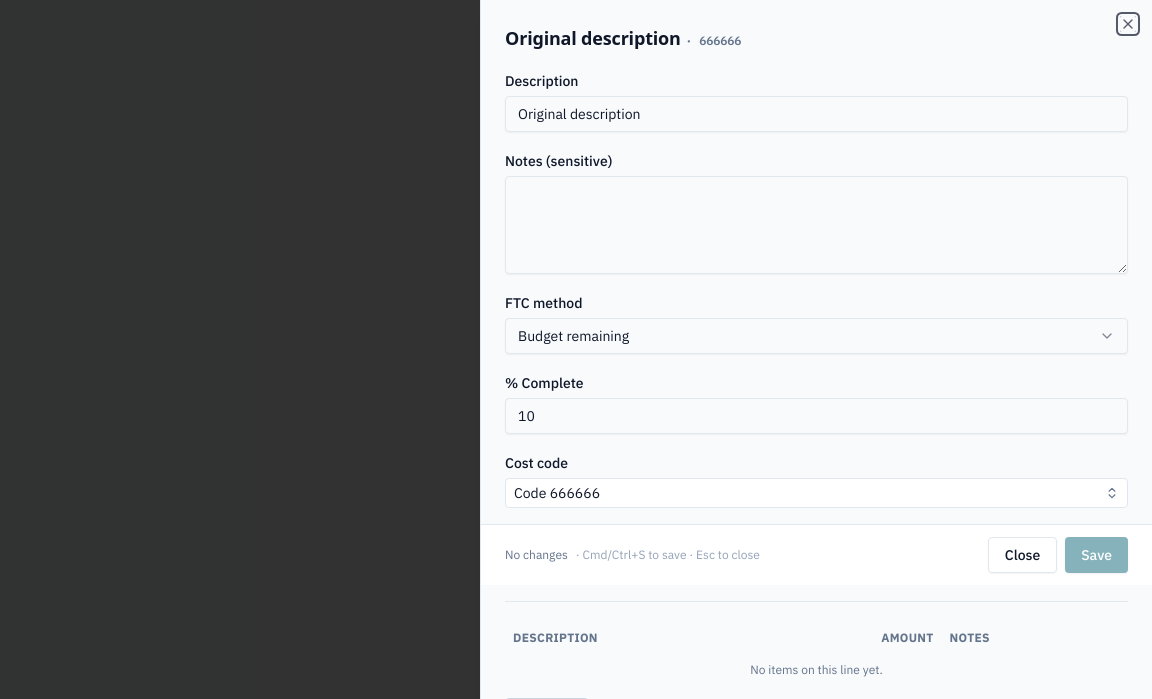
Test: LineDrawer — open + dirty + save › Save sends ONLY dirty fields (line_description), no version/extras
Later steps or results of the test are not shown.
Replace the text in the field with test id "line-drawer-description" with "Updated". click: (816, 114)
box: [505,96,1128,132]
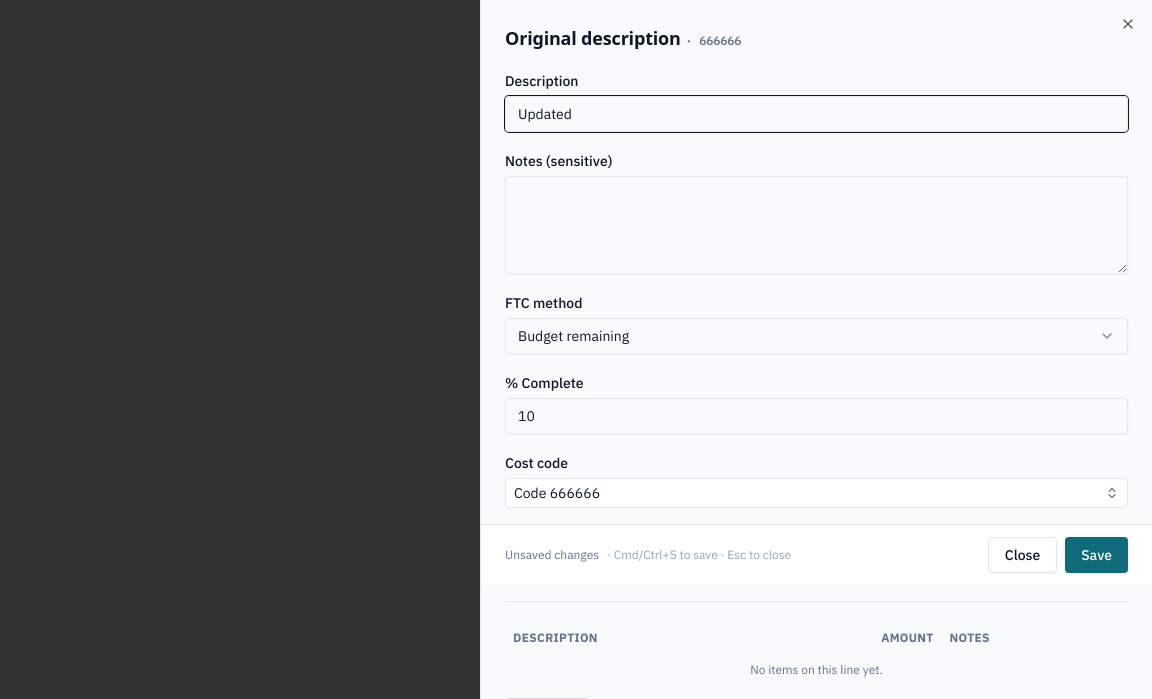
Expected: the button with test id "line-drawer-save" is enabled, [1065,537,1128,573]
